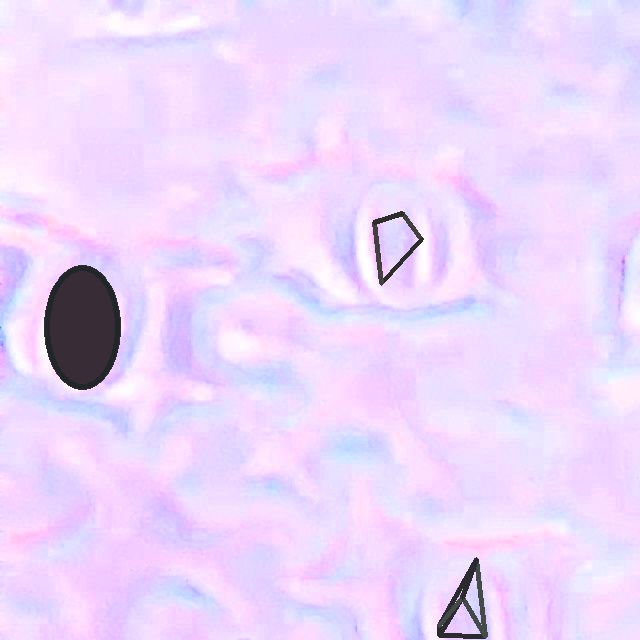open: (44, 265, 120, 389), (437, 557, 487, 637), (372, 211, 423, 285)
